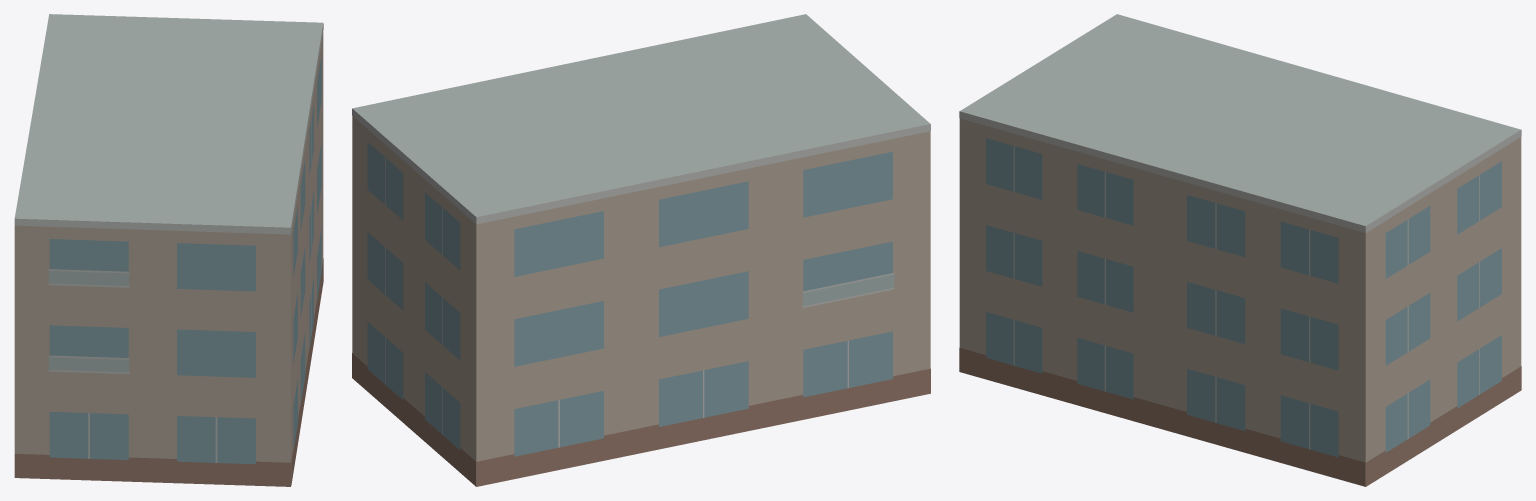
The model's file is survey-upis-32706678.glb.
3 renders of one model, left to right at view 1: azimuth 30°, elevation 25°; view 2: azimuth 150°, elevation 25°; view 3: azimuth 270°, elevation 25°, orthographic. The views are drawn at different scales.
Parts seen in each view (by area): view 1: survey-upis-32706678.tmp; view 2: survey-upis-32706678.tmp; view 3: survey-upis-32706678.tmp.
Boxes of the visible parts, x1,y1,x2,y2 form: survey-upis-32706678.tmp: (14, 14, 323, 486); survey-upis-32706678.tmp: (352, 14, 930, 486); survey-upis-32706678.tmp: (959, 14, 1521, 486).
Size of the model in its own units: 15.99 by 9.15 by 17.89.
